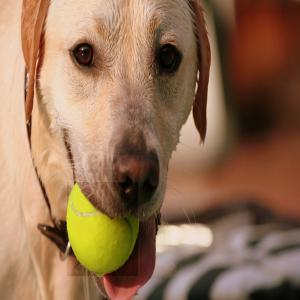TennisBall: (68, 183, 140, 278)
